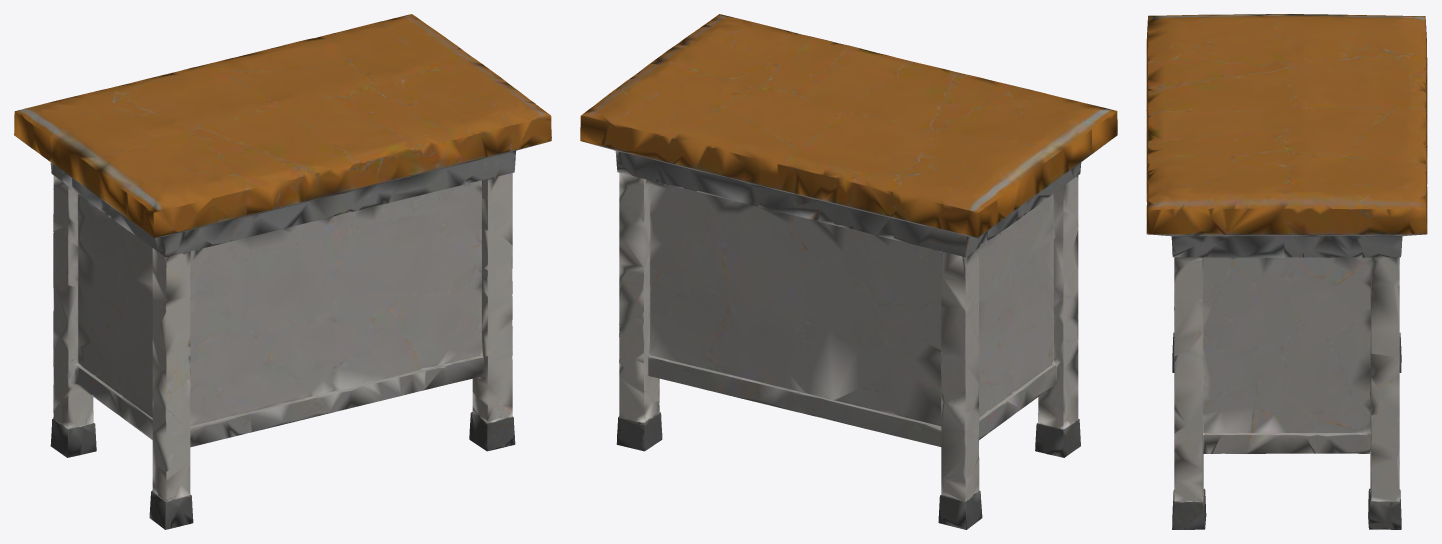
Rendered from lectern.glb.
3 views of the same model, side by side, from view 1: azimuth 30°, elevation 25°; view 2: azimuth 150°, elevation 25°; view 3: azimuth 270°, elevation 25° (orthographic).
Size of the model in its own units: 1.9 by 1.55 by 1.16.
1 material, 1 textured.
